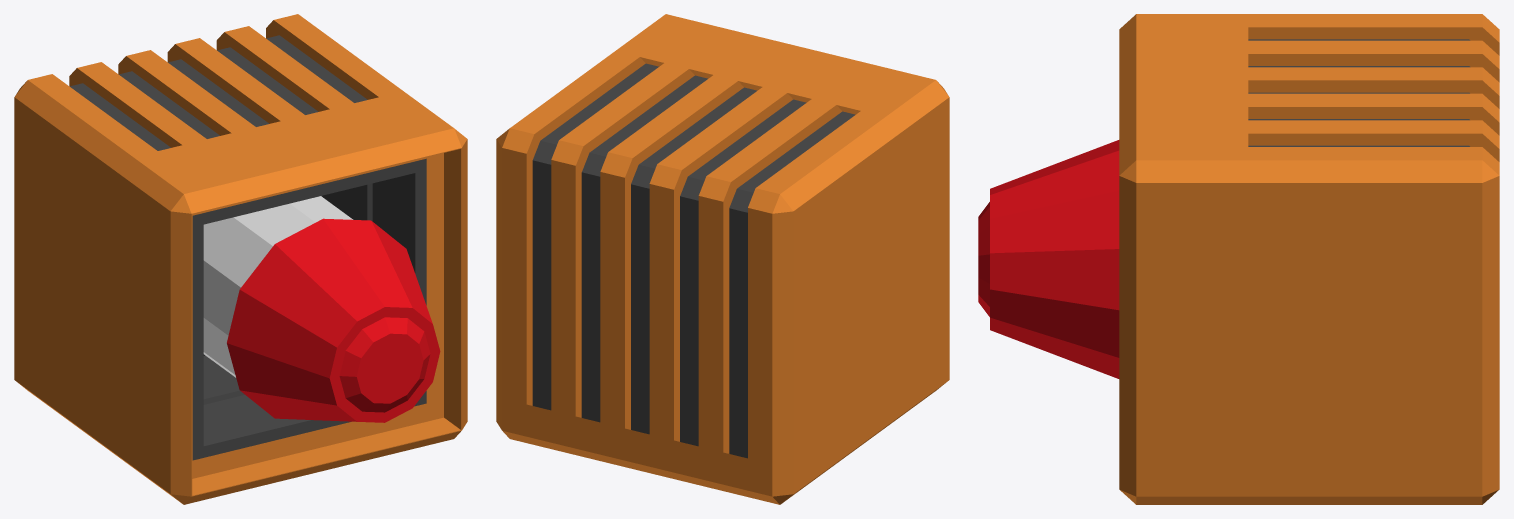
The model's file is Lanza Misiles Agarrable.fbx.
3 renders of one model, left to right at view 1: azimuth 30°, elevation 25°; view 2: azimuth 150°, elevation 25°; view 3: azimuth 270°, elevation 25°, orthographic. The views are drawn at different scales.
Parts seen in each view (by area): view 1: Lanza Misiles Agarrable; view 2: Lanza Misiles Agarrable; view 3: Lanza Misiles Agarrable.
Boxes of the visible parts, box(x1,y1,x2,y2) form: Lanza Misiles Agarrable: box(14, 14, 467, 504); Lanza Misiles Agarrable: box(496, 14, 949, 504); Lanza Misiles Agarrable: box(978, 14, 1499, 504).
Bounding box in the file's own units: 176 × 176 × 242.
